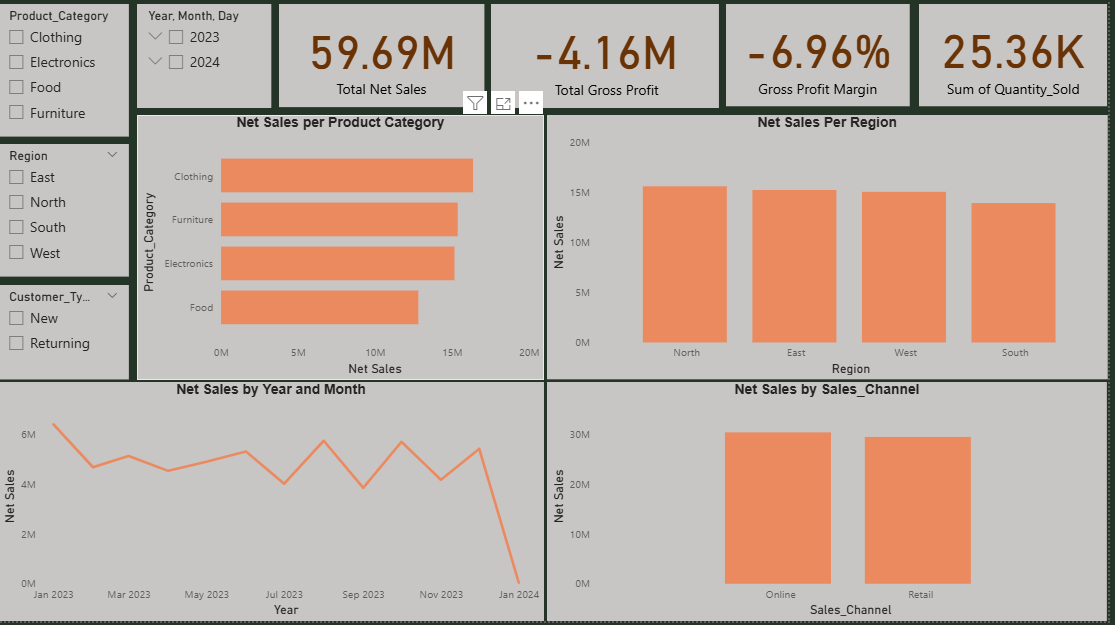

Layout of this report page (visuals, bound fields, positions):
{"tool":"powerbi","page":{"name":"Page 1","canvas":[1280,720],"ordinal":0},"visuals":[{"type":"card","fields":{"Values":["Sum(sales_data_Project2.Calculated Net Sales)"]},"box":[324.5,8.3,236.5,118.8],"z":0},{"type":"card","fields":{"Values":["Sum(sales_data_Project2.Calculated Gross Profit)"]},"box":[569.3,8.3,262.7,120],"z":1000},{"type":"card","fields":{"Values":["sales_data_Project2.Gross Profit Margin"]},"box":[840.3,8.3,211.6,117.7],"z":2000},{"type":"card","fields":{"Values":["Sum(sales_data_Project2.Quantity_Sold)"]},"box":[1062.5,8.3,217.5,117.7],"z":3000},{"type":"clusteredBarChart","title":" Net Sales per Product Category","fields":{"Y":["Sum(sales_data_Project2.Calculated Net Sales)"],"Category":["sales_data_Project2.Product_Category"]},"box":[160.4,136.7,469.5,305.4],"z":4000},{"type":"clusteredColumnChart","title":" Net Sales Per Region","fields":{"Y":["Sum(sales_data_Project2.Calculated Net Sales)"],"Category":["sales_data_Project2.Region"]},"box":[633.5,136.7,646.5,305.4],"z":5000},{"type":"lineChart","fields":{"Y":["Sum(sales_data_Project2.Calculated Net Sales)"],"Category":["sales_data_Project2.Sale_Date.Variation.Date Hierarchy.Year","sales_data_Project2.Sale_Date.Variation.Date Hierarchy.Month"]},"box":[0,444.5,629.9,275.7],"z":6000},{"type":"clusteredColumnChart","fields":{"Category":["sales_data_Project2.Sales_Channel"],"Y":["Sum(sales_data_Project2.Calculated Net Sales)"]},"box":[633.5,444.2,646.2,275.8],"z":7000},{"type":"slicer","fields":{"Values":["sales_data_Project2.Region"]},"box":[0,170,150.9,153.3],"z":8000},{"type":"slicer","fields":{"Values":["sales_data_Project2.Product_Category"]},"box":[0,8.1,151.2,153.5],"z":9000},{"type":"slicer","fields":{"Values":["sales_data_Project2.Sale_Date.Variation.Date Hierarchy.Year","sales_data_Project2.Sale_Date.Variation.Date Hierarchy.Month","sales_data_Project2.Sale_Date.Variation.Date Hierarchy.Day"]},"box":[160.4,8.3,154.5,120],"z":10000},{"type":"slicer","fields":{"Values":["sales_data_Project2.Customer_Type"]},"box":[0,332.8,150.9,109.3],"z":11000}]}

Visuals, with their boxes in screenshot pixels (x1, y1, x2, y2), scaled from the page's 1280x720 canvas onto the 1115x625 screenshot:
card - Sum(sales_data_Project2.Calculated Net Sales): (left=283, top=7, right=489, bottom=110)
card - Sum(sales_data_Project2.Calculated Gross Profit): (left=496, top=7, right=725, bottom=111)
card - sales_data_Project2.Gross Profit Margin: (left=732, top=7, right=916, bottom=109)
card - Sum(sales_data_Project2.Quantity_Sold): (left=926, top=7, right=1114, bottom=109)
" Net Sales per Product Category" clusteredBarChart: (left=140, top=119, right=549, bottom=384)
" Net Sales Per Region" clusteredColumnChart: (left=552, top=119, right=1114, bottom=384)
lineChart - Sum(sales_data_Project2.Calculated Net Sales) x sales_data_Project2.Sale_Date.Variation.Date Hierarchy.Year: (left=0, top=386, right=549, bottom=624)
clusteredColumnChart - sales_data_Project2.Sales_Channel x Sum(sales_data_Project2.Calculated Net Sales): (left=552, top=386, right=1114, bottom=624)
slicer - sales_data_Project2.Region: (left=0, top=148, right=131, bottom=281)
slicer - sales_data_Project2.Product_Category: (left=0, top=7, right=132, bottom=140)
slicer - sales_data_Project2.Sale_Date.Variation.Date Hierarchy.Year x sales_data_Project2.Sale_Date.Variation.Date Hierarchy.Month: (left=140, top=7, right=274, bottom=111)
slicer - sales_data_Project2.Customer_Type: (left=0, top=289, right=131, bottom=384)
